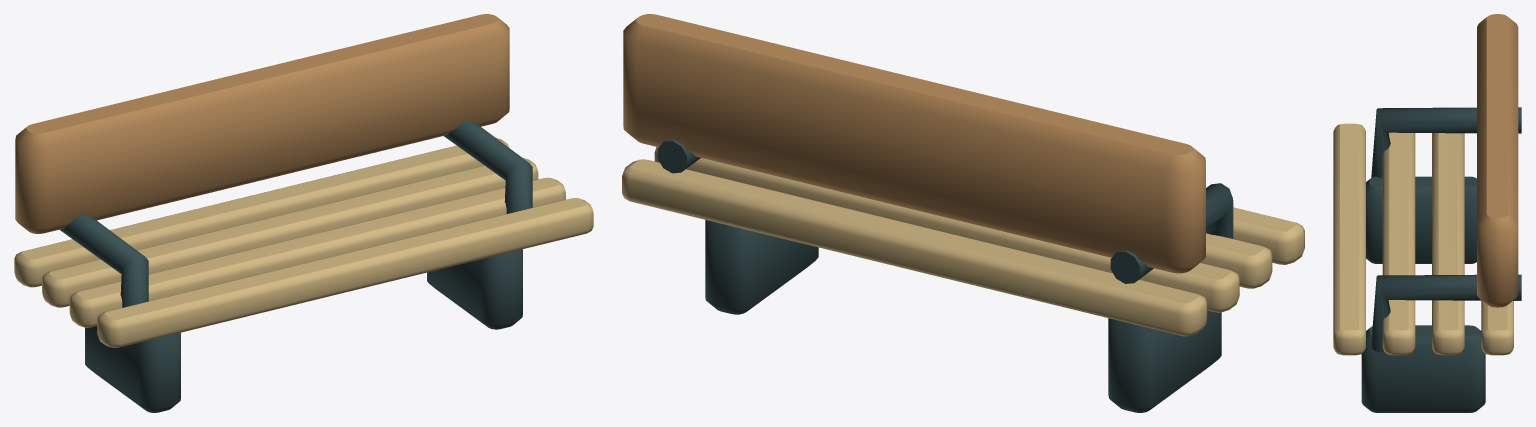
The model's file is bench_2.glb.
The picture shows the model from 3 angles, left to right: view 1: azimuth 30°, elevation 25°; view 2: azimuth 150°, elevation 25°; view 3: azimuth 270°, elevation 25°; orthographic projection. The views are drawn at different scales.
Visible parts, largest first — view 1: Bench; view 2: Bench; view 3: Bench.
Boxes of the visible parts, x1,y1,x2,y2 form: Bench: [14, 14, 593, 412]; Bench: [622, 14, 1304, 412]; Bench: [1333, 14, 1521, 412].
Bounding box in the file's own units: 2.31 × 1.1 × 0.865.
